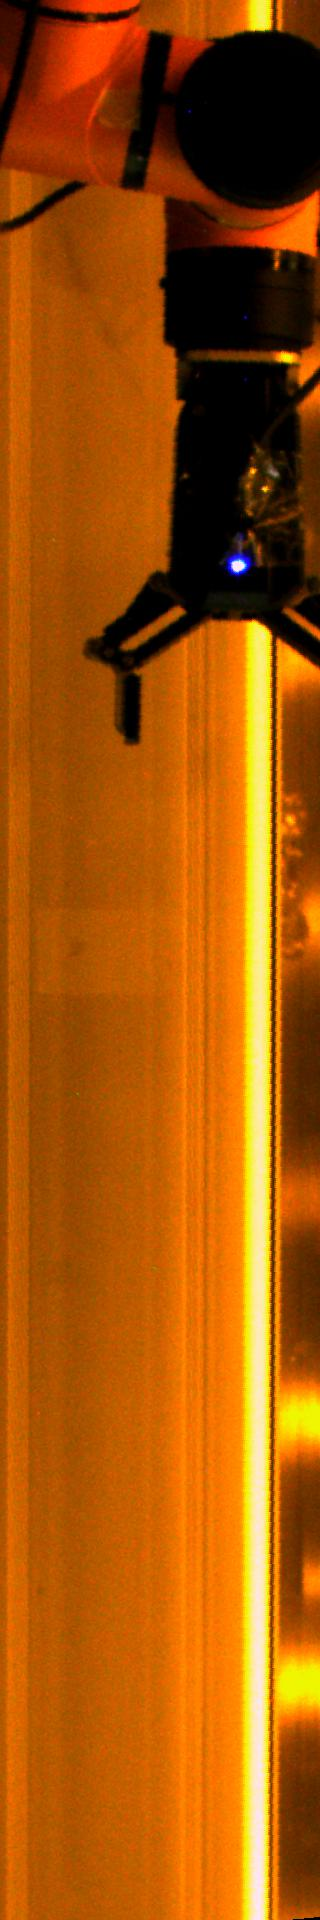keyPoint_1: (224, 551, 254, 580)
